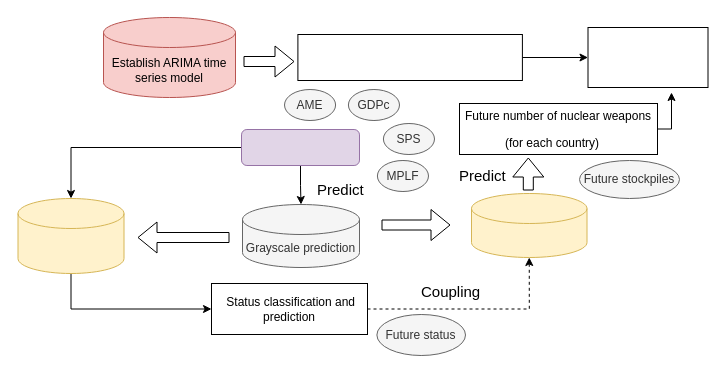
Some shapes in this 725 by 373 pixel diagram are drawn without their labels. Here are the shapes that lost their labels. From the top down, the centre of each, then its label:
At point 409,57: "Predict the number of nuclear weapons".
At point 647,57: "Stockpiles comparison and verification".
At point 300,147: "Main influencing factors".
At point 70,236: "Multivariate Logistic regression".
At point 528,225: "BP Neural Network".
